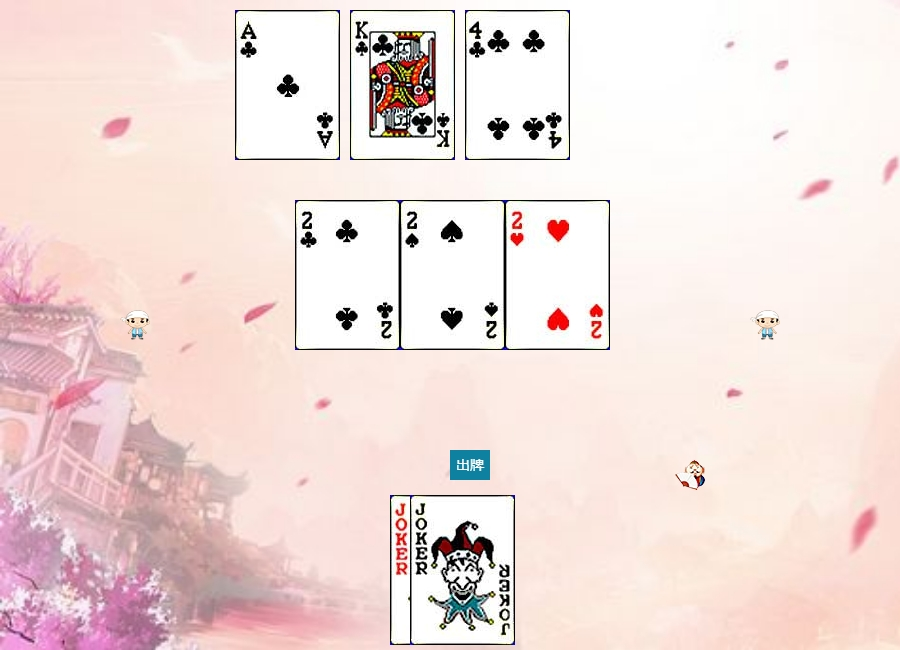13~2: (350, 10, 455, 160)
14~2: (235, 10, 340, 160)
15~2: (295, 200, 400, 350)
15~3: (505, 200, 610, 350)
15~4: (400, 200, 505, 350)
17~3: (410, 495, 515, 645)
18~4: (390, 495, 495, 645)
4~2: (465, 10, 570, 160)
